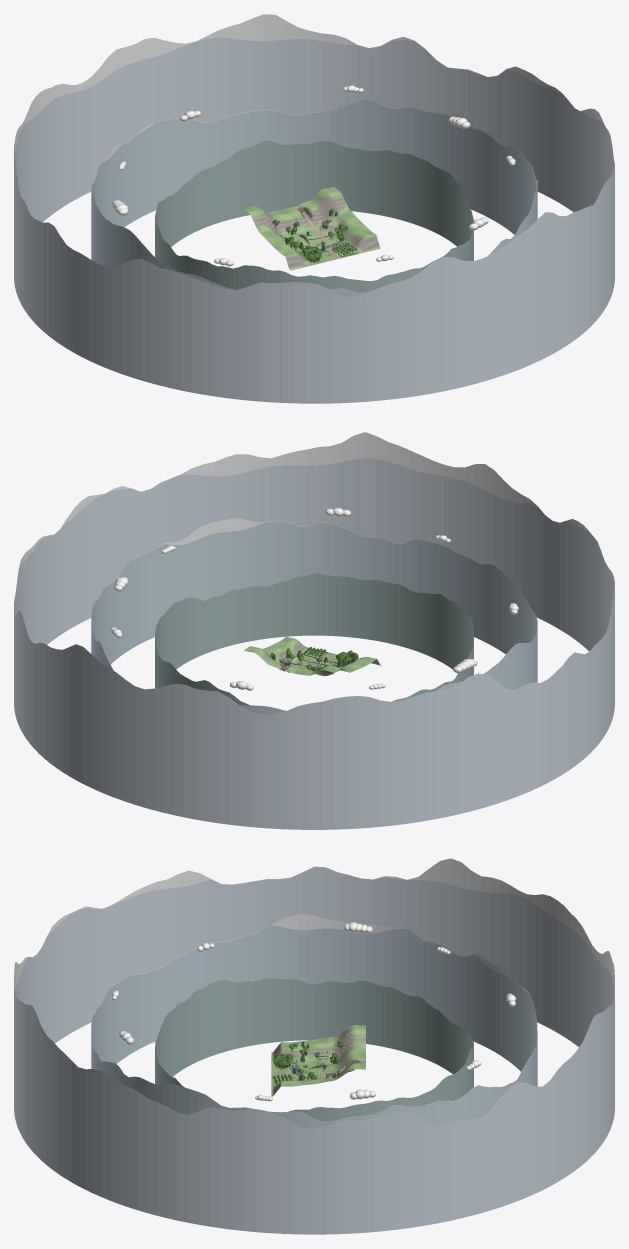
Rendered from meadow.glb.
3 renders of one model, top to bottom at view 1: azimuth 30°, elevation 25°; view 2: azimuth 150°, elevation 25°; view 3: azimuth 270°, elevation 25°, orthographic.
Parts seen in each view (by area): view 1: MEADOW, FLOOR_MEADOW; view 2: MEADOW, FLOOR_MEADOW; view 3: MEADOW, FLOOR_MEADOW.
Part boxes in pixels (x1,y1,x2,y2): MEADOW: (14,14,614,403); FLOOR_MEADOW: (243,187,380,270); MEADOW: (14,432,614,829); FLOOR_MEADOW: (244,636,381,676); MEADOW: (14,858,614,1234); FLOOR_MEADOW: (271,1025,365,1096).
Size of the model in its own units: 660 by 177 by 660.
30 materials, 10 textured.
